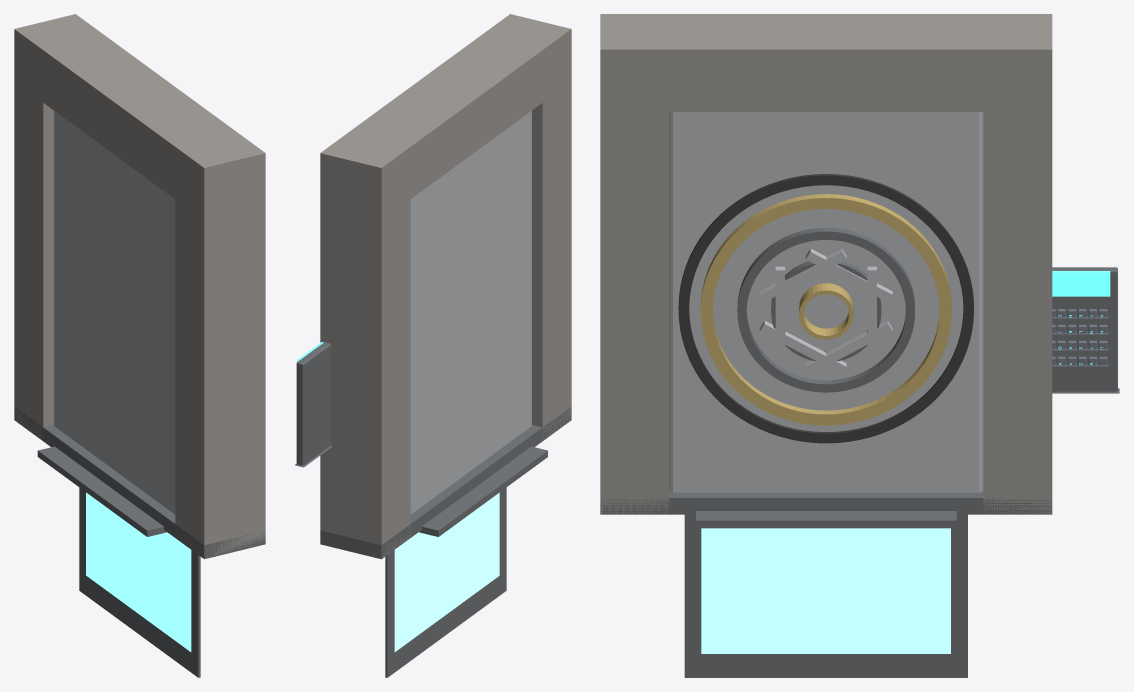
The model's file is Vault.fbx.
The picture shows the model from 3 angles, left to right: view 1: azimuth 30°, elevation 25°; view 2: azimuth 150°, elevation 25°; view 3: azimuth 270°, elevation 25°; orthographic projection. The views are drawn at different scales.
Parts seen in each view (by area): view 1: Vault_Door, Vault_Frame_L, Vault_Frame_Top, Vault_Frame_R, Vault_Archive_Glow, Vault_Frame_Floor, Vault_Archive_BackWall, Vault_Archive_Shelf0; view 2: Vault_Door, Vault_Frame_R, Vault_Frame_Top, Vault_Frame_L, Vault_Archive_Glow, Vault_Frame_Floor, Vault_Archive_BackWall, Vault_KeypadPanel, Vault_Archive_Shelf0; view 3: Vault_Door, Vault_Frame_Top, Vault_Frame_L, Vault_Frame_R, Vault_Archive_Glow, Vault_Archive_BackWall, Vault_LockingRing, Vault_Gasket, Vault_Frame_Floor, Vault_BoltRing2, Vault_KeypadPanel, Vault_Archive_Shelf0 (+9 smaller).
Boxes of the visible parts, x1,y1,x2,y2 form: Vault_Door: (54, 111, 175, 514); Vault_Frame_L: (175, 134, 265, 558); Vault_Frame_Top: (14, 14, 265, 219); Vault_Frame_R: (14, 29, 53, 440); Vault_Archive_Glow: (86, 492, 191, 651); Vault_Frame_Floor: (14, 407, 265, 559); Vault_Archive_BackWall: (79, 487, 200, 677); Vault_Archive_Shelf0: (37, 446, 166, 536); Vault_Door: (410, 111, 531, 514); Vault_Frame_R: (320, 132, 410, 558); Vault_Frame_Top: (320, 14, 570, 220); Vault_Frame_L: (532, 29, 571, 436); Vault_Archive_Glow: (394, 492, 499, 651); Vault_Frame_Floor: (320, 406, 571, 559); Vault_Archive_BackWall: (385, 487, 506, 677); Vault_KeypadPanel: (295, 342, 331, 467); Vault_Archive_Shelf0: (419, 446, 547, 536); Vault_Door: (669, 112, 983, 492); Vault_Frame_Top: (600, 14, 1052, 111); Vault_Frame_L: (600, 44, 669, 514); Vault_Frame_R: (983, 36, 1052, 514); Vault_Archive_Glow: (701, 528, 950, 653); Vault_Archive_BackWall: (684, 514, 967, 677); Vault_LockingRing: (700, 194, 951, 425); Vault_Gasket: (678, 174, 973, 443); Vault_Frame_Floor: (600, 491, 1052, 514); Vault_BoltRing2: (737, 227, 914, 392); Vault_KeypadPanel: (1052, 267, 1119, 393); Vault_Archive_Shelf0: (696, 511, 956, 528).
Size of the model in its own units: 0.85 by 4.65 by 3.39.
